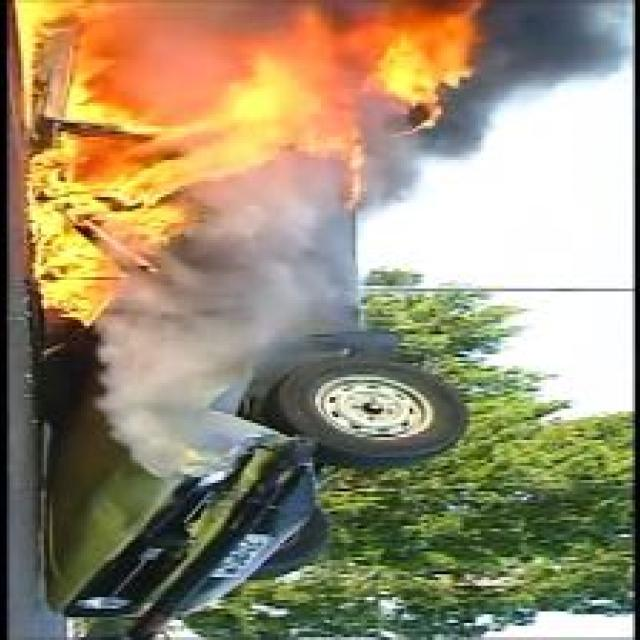Fire: (16, 0, 484, 326)
